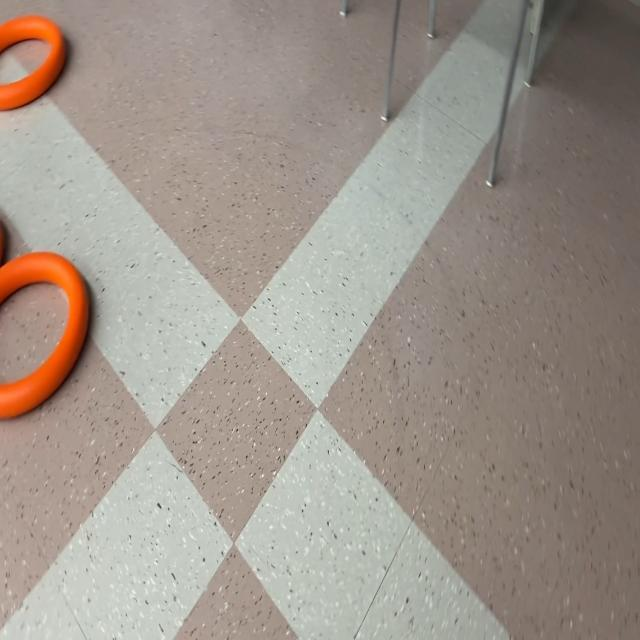note: (0, 252, 91, 424), (0, 13, 68, 116)
